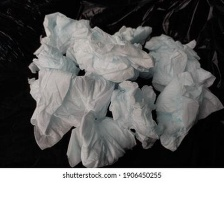tissue: (17, 6, 224, 167)
